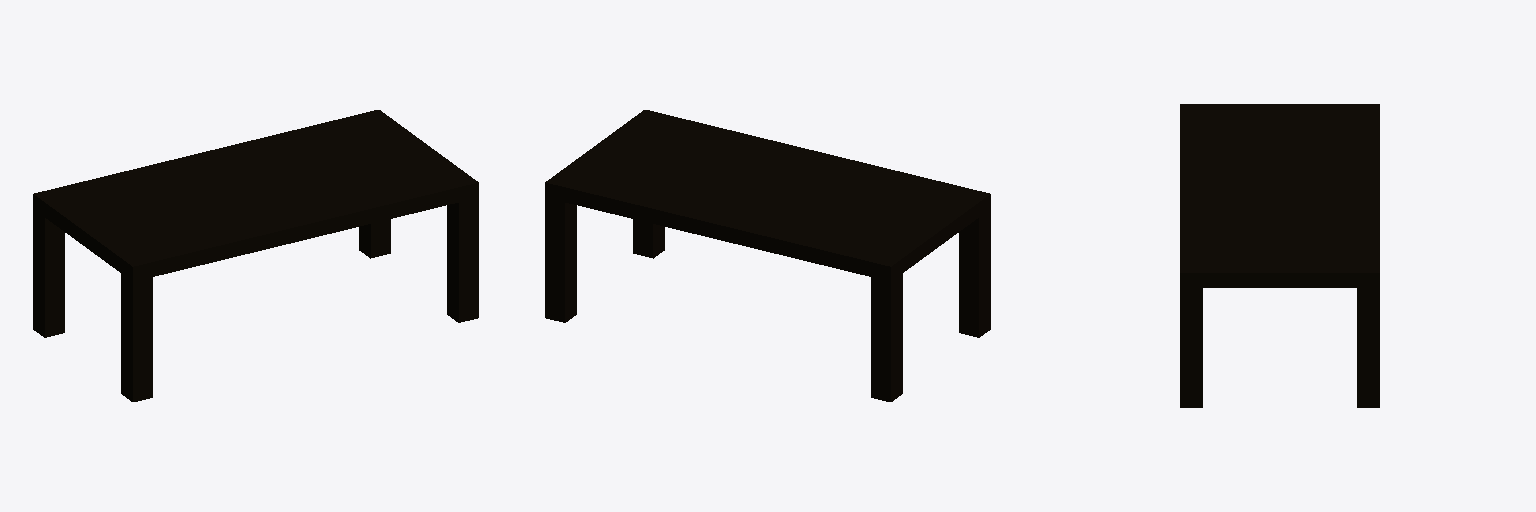
The model's file is sofaTable.obj.
3 views of the same model, side by side, from view 1: azimuth 30°, elevation 25°; view 2: azimuth 150°, elevation 25°; view 3: azimuth 270°, elevation 25° (orthographic).
Visible parts, largest first — view 1: Cube.001_Cube.002; view 2: Cube.001_Cube.002; view 3: Cube.001_Cube.002.
Boxes of the visible parts, x1=… form: Cube.001_Cube.002: x1=33, y1=110, x2=478, y2=401; Cube.001_Cube.002: x1=545, y1=110, x2=990, y2=401; Cube.001_Cube.002: x1=1180, y1=104, x2=1379, y2=407.
Bounding box in the file's own units: 1.2 × 0.45 × 0.6.